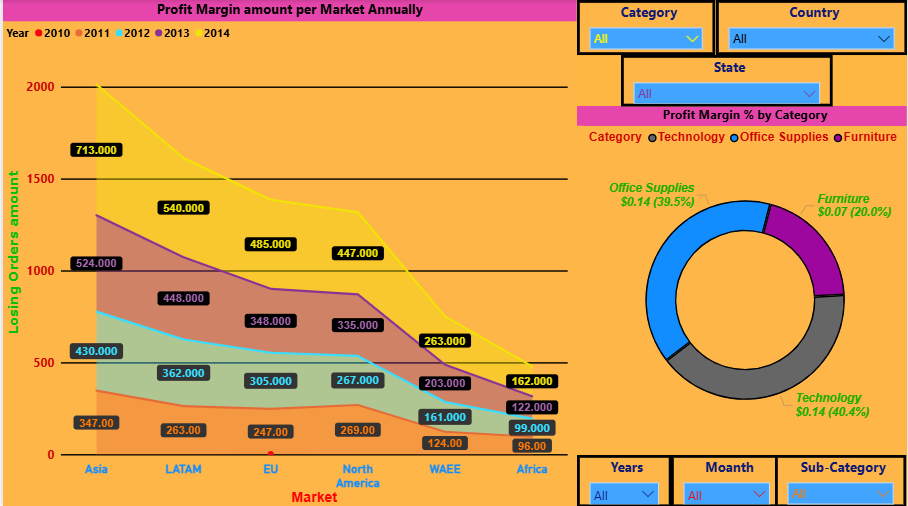

Layout of this report page (visuals, bound fields, positions):
{"tool":"powerbi","page":{"name":"Page 6 \\1 Profit Market report ","canvas":[1280,720],"ordinal":6},"visuals":[{"type":"donutChart","fields":{"Category":["Dim_Product.Category"],"Y":["fact table Global _ Superstore _ Cleaned.Profit Margin %"]},"box":[813.4,150.4,466.6,494.5],"z":0},{"type":"stackedAreaChart","title":"Profit Margin amount per Market Annually","fields":{"Category":["Dim_Customer.Market"],"Series":["Dim_Date.Year"],"Y":["fact table Global _ Superstore _ Cleaned.Losing Orders amount"]},"box":[0,0,813.4,720.1],"z":1000},{"type":"slicer","title":"Years ","fields":{"Values":["Dim_Date.Year"]},"box":[813.4,645.5,133.5,74.3],"z":2000},{"type":"slicer","title":"Moanth","fields":{"Values":["Dim_Date.Month Name","Dim_Date.Month"]},"box":[946.9,645.5,158.3,74.3],"z":3000},{"type":"slicer","title":"Country","fields":{"Values":["Dim_Customer.Country"]},"box":[1010.2,0,271.1,78.5],"z":4000},{"type":"slicer","title":"Category","fields":{"Values":["Dim_Product.Sub-Category"]},"box":[813.4,0,196.4,78],"z":5000},{"type":"slicer","title":"State","fields":{"Values":["fact table Global _ Superstore _ Cleaned.Order ID"]},"box":[876.1,78,300,72.9],"z":6000},{"type":"slicer","title":"Sub-Category","fields":{"Values":["Dim_Product.Sub-Category"]},"box":[1094.2,645.5,185.8,74.3],"z":7000}]}

Visuals, with their boxes in screenshot pixels (x1, y1, x2, y2), scaled from the page's 1280x720 canvas onto the 908x506 screenshot:
donutChart - Dim_Product.Category x fact table Global _ Superstore _ Cleaned.Profit Margin %: 577:106:907:453
"Profit Margin amount per Market Annually" stackedAreaChart: 0:0:577:505
"Years " slicer: 577:454:672:505
"Moanth" slicer: 672:454:784:505
"Country" slicer: 717:0:907:55
"Category" slicer: 577:0:716:55
"State" slicer: 621:55:834:106
"Sub-Category" slicer: 776:454:907:505
